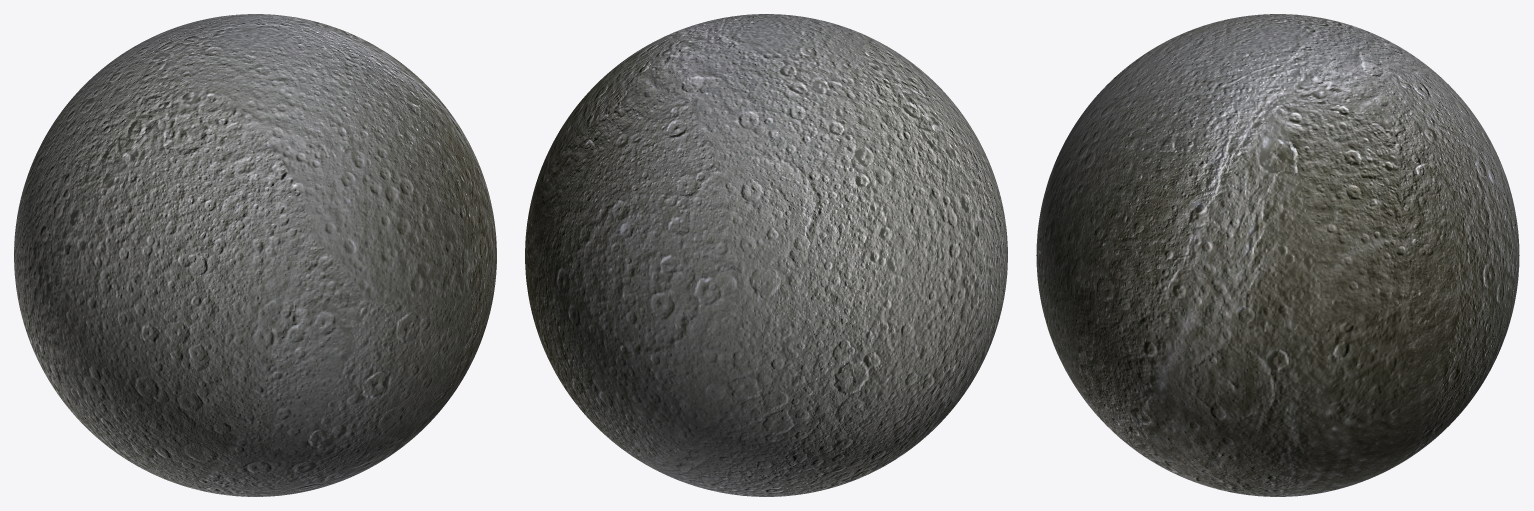
Rendered from rhea.glb.
The picture shows the model from 3 angles, left to right: view 1: azimuth 30°, elevation 25°; view 2: azimuth 150°, elevation 25°; view 3: azimuth 270°, elevation 25°; orthographic projection.
Parts seen in each view (by area): view 1: rhea_globe; view 2: rhea_globe; view 3: rhea_globe.
Part boxes in pixels (bbox=[...]): rhea_globe: bbox=[14, 14, 496, 496]; rhea_globe: bbox=[525, 14, 1007, 496]; rhea_globe: bbox=[1036, 14, 1519, 496].
Bounding box in the file's own units: 2 × 2 × 2.
1 material, 1 textured.
